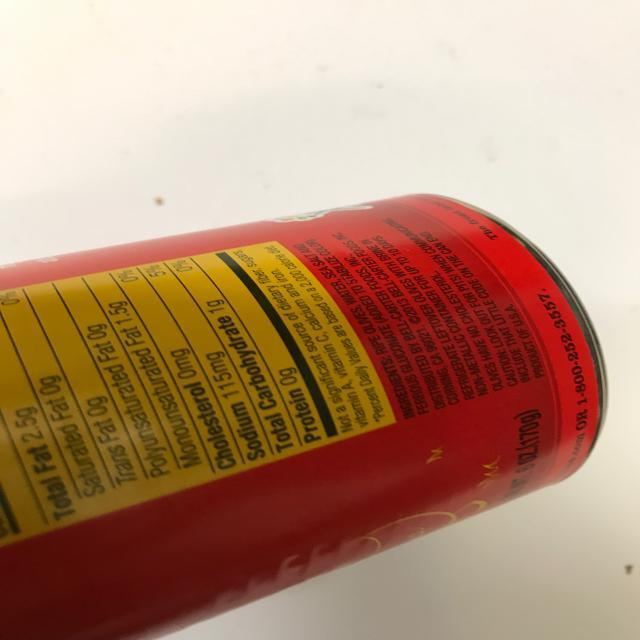metal: (7, 193, 613, 640)
